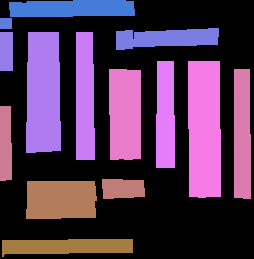parkingspot: (202, 61, 220, 196), (188, 61, 205, 197), (76, 32, 94, 159), (26, 32, 45, 152), (2, 239, 132, 256), (234, 69, 250, 198), (43, 32, 60, 151), (9, 0, 134, 16), (156, 61, 174, 167), (133, 28, 218, 46), (109, 69, 126, 159), (124, 70, 140, 159), (26, 198, 95, 218), (27, 181, 96, 200), (0, 106, 11, 180), (102, 179, 144, 198), (0, 32, 12, 70), (116, 30, 132, 49), (0, 18, 11, 28)
